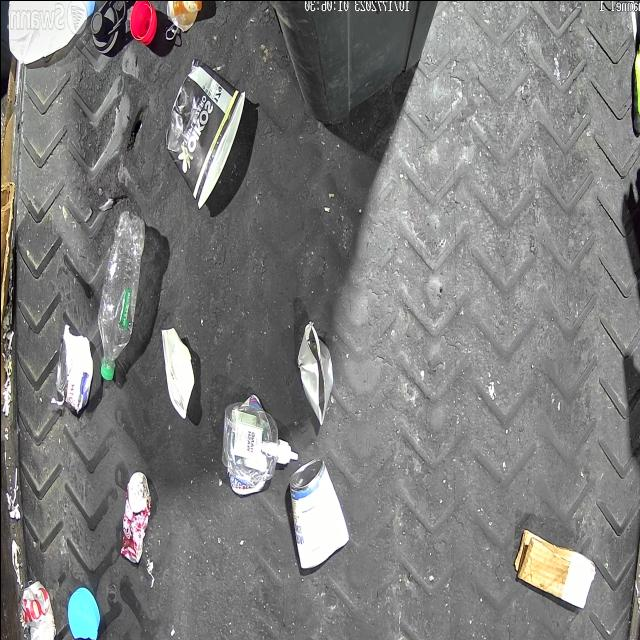can: (286, 456, 350, 570), (296, 320, 332, 424), (118, 471, 150, 564), (56, 330, 92, 410), (16, 576, 54, 640)
milk_jug: (8, 0, 95, 63)
plastic_bottle: (97, 208, 144, 380)
